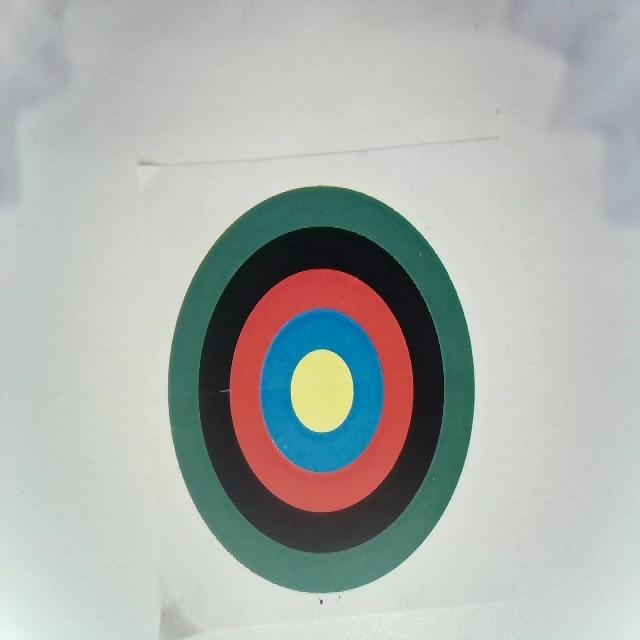cogn: (167, 184, 476, 594)
